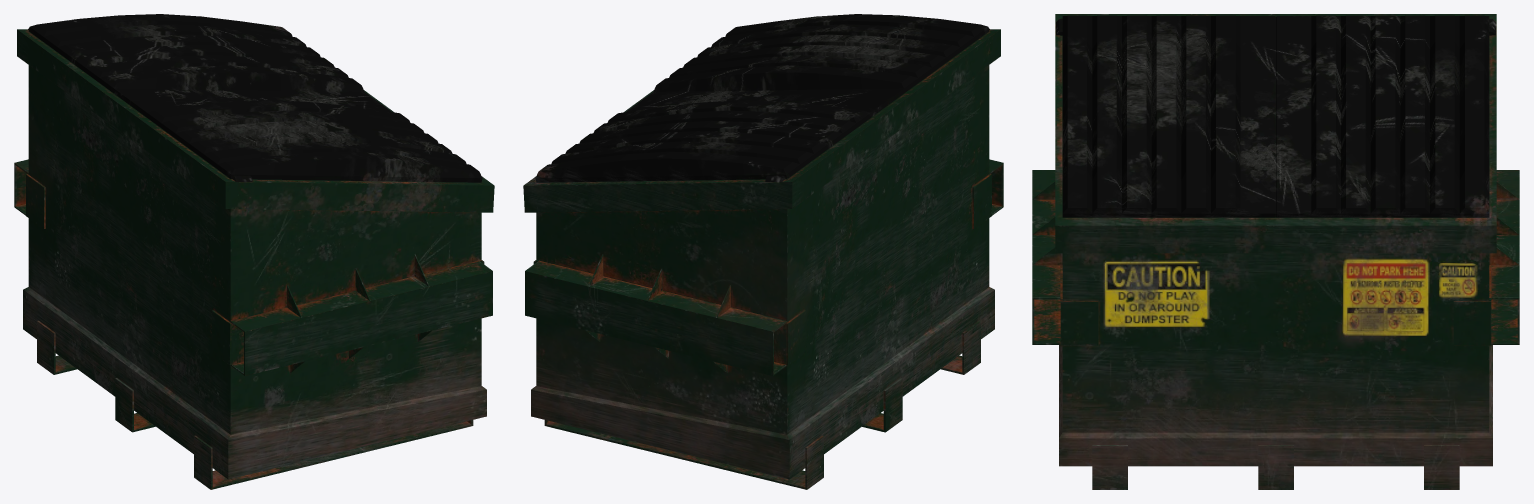
File: dumpster-size-2.glb
3 views of the same model, side by side, from view 1: azimuth 30°, elevation 25°; view 2: azimuth 150°, elevation 25°; view 3: azimuth 270°, elevation 25° (orthographic). The views are drawn at different scales.
Visible parts, largest first — view 1: model (2); view 2: model (2); view 3: model (2).
Part boxes in pixels (bbox=[...]): model (2): bbox=[14, 14, 494, 489]; model (2): bbox=[523, 14, 1003, 489]; model (2): bbox=[1032, 14, 1519, 489].
Bounding box in the file's own units: 0.8752 × 1.02 × 1.3.
1 material, 1 textured.
